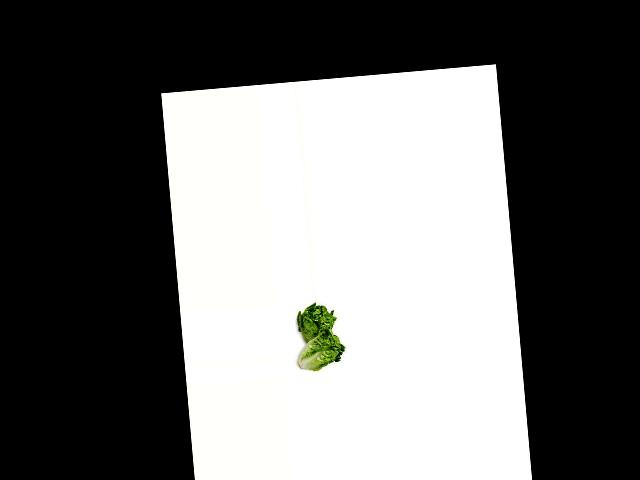lettuce: (290, 301, 339, 347)
